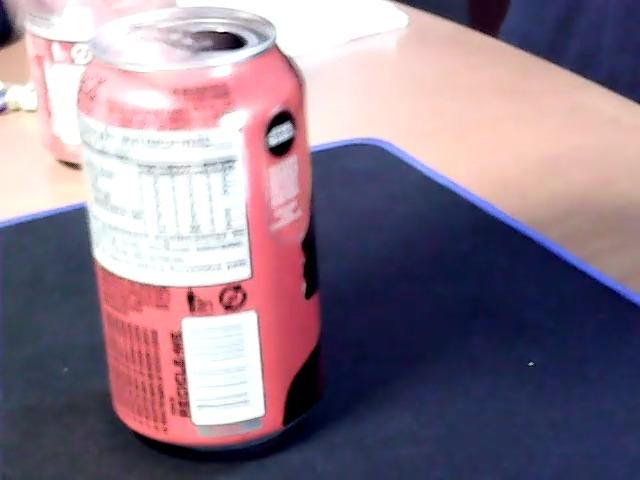coke: (80, 33, 315, 446), (24, 11, 98, 166)
